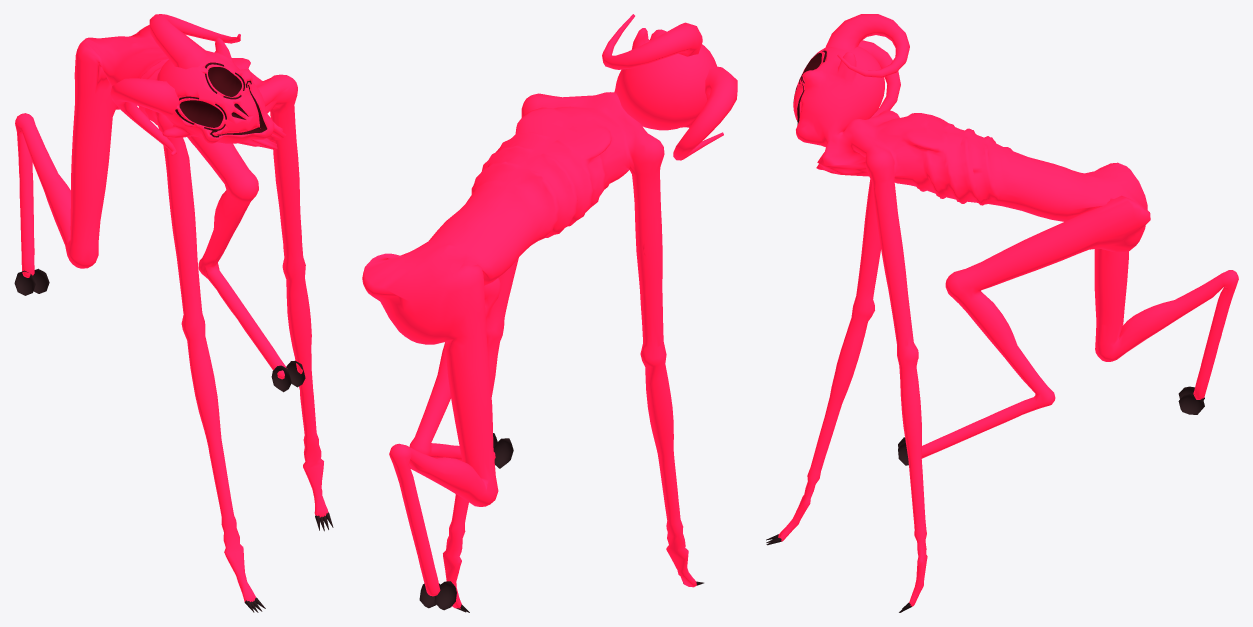
The model's file is devil_walk_b.glb.
The picture shows the model from 3 angles, left to right: view 1: azimuth 30°, elevation 25°; view 2: azimuth 150°, elevation 25°; view 3: azimuth 270°, elevation 25°; orthographic projection. The views are drawn at different scales.
Visible parts, largest first — view 1: HWG_Devil_walk_b; view 2: HWG_Devil_walk_b; view 3: HWG_Devil_walk_b.
Part boxes in pixels (left/top/right/bottom): HWG_Devil_walk_b: left=14, top=14, right=333, bottom=612; HWG_Devil_walk_b: left=362, top=14, right=737, bottom=612; HWG_Devil_walk_b: left=766, top=14, right=1238, bottom=612.
Bounding box in the file's own units: 0.3578 × 0.8201 × 0.6798.
